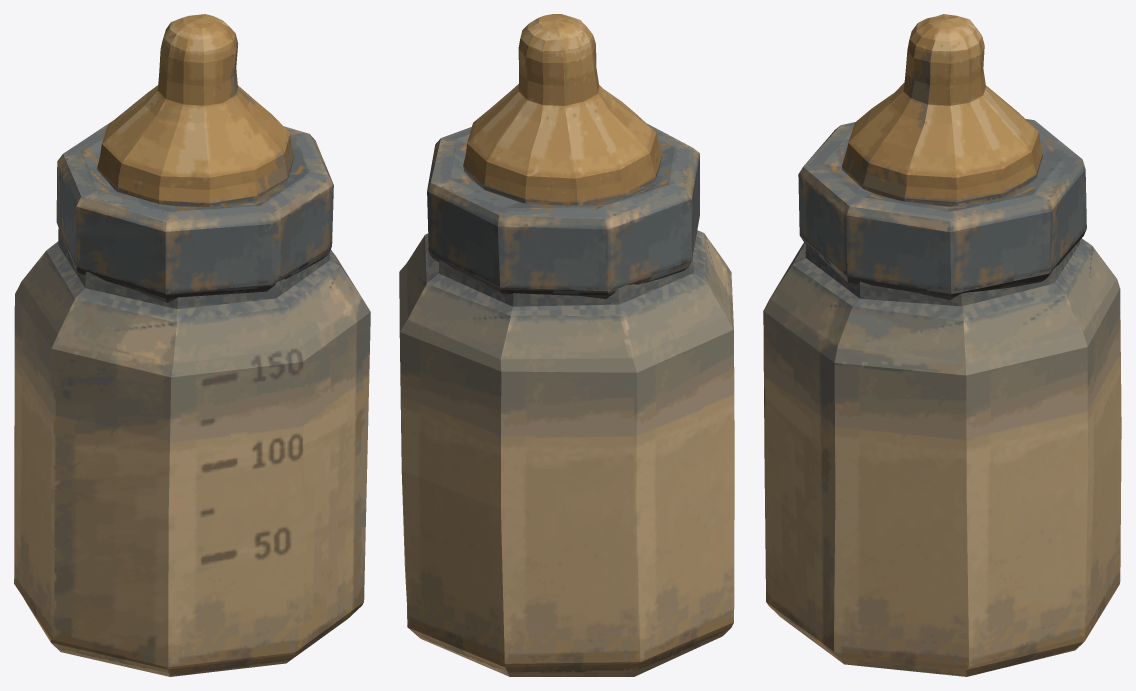
File: CI17_BabyBottle.fbx
3 views of the same model, side by side, from view 1: azimuth 30°, elevation 25°; view 2: azimuth 150°, elevation 25°; view 3: azimuth 270°, elevation 25° (orthographic).
Visible parts, largest first — view 1: CI17_BabyBottle; view 2: CI17_BabyBottle; view 3: CI17_BabyBottle.
Boxes of the visible parts, bbox=[...] form: CI17_BabyBottle: bbox=[14, 14, 370, 676]; CI17_BabyBottle: bbox=[399, 14, 734, 676]; CI17_BabyBottle: bbox=[763, 14, 1121, 676].
Bounding box in the file's own units: 0.1132 × 0.2062 × 0.1119.
1 material, 1 textured.
